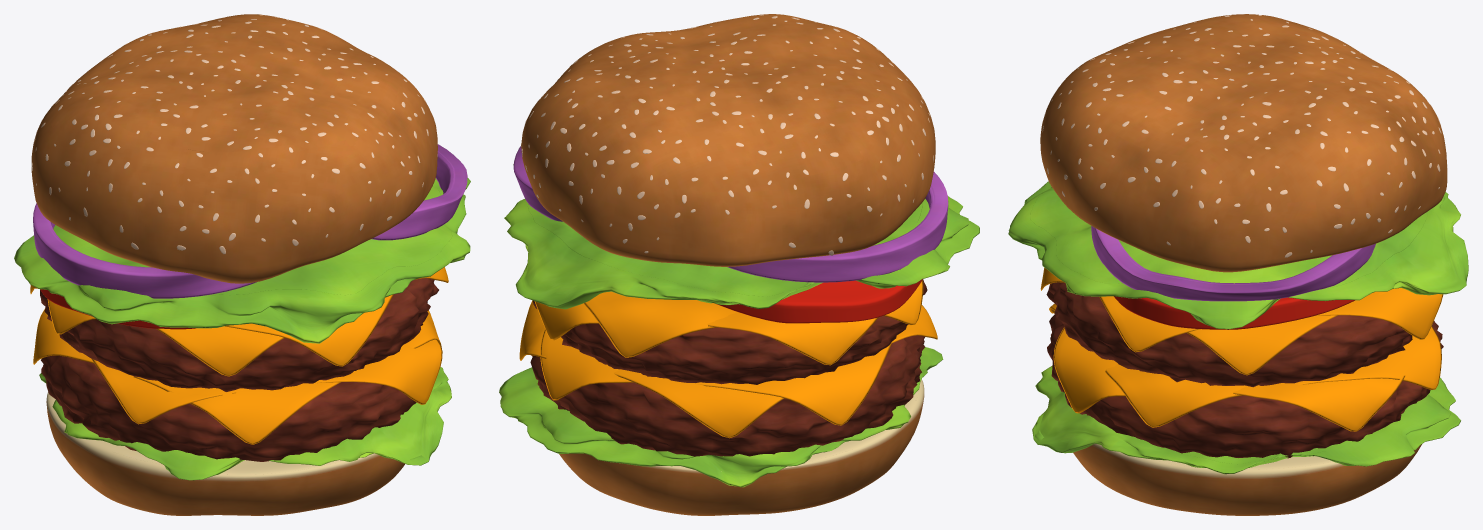
File: burger.glb
The picture shows the model from 3 angles, left to right: view 1: azimuth 30°, elevation 25°; view 2: azimuth 150°, elevation 25°; view 3: azimuth 270°, elevation 25°; orthographic projection.
Parts seen in each view (by area): view 1: topbun, lettuce, bottombun, patty, patty2, cheese, lettuce001, cheese2, onion2, onion, tomato001; view 2: topbun, lettuce, patty, bottombun, cheese, cheese2, patty2, lettuce001, onion2, tomato001, onion; view 3: topbun, lettuce, cheese, bottombun, patty2, patty, lettuce001, cheese2, onion, tomato.
Part boxes in pixels (bbox=[...]): topbun: bbox=[31, 14, 437, 283]; lettuce: bbox=[14, 178, 470, 343]; bottombun: bbox=[46, 392, 404, 515]; patty: bbox=[41, 355, 416, 461]; patty2: bbox=[40, 278, 438, 391]; cheese: bbox=[33, 309, 442, 444]; lettuce001: bbox=[39, 367, 451, 480]; cheese2: bbox=[30, 267, 448, 376]; onion2: bbox=[33, 203, 256, 298]; onion: bbox=[371, 144, 467, 240]; tomato001: bbox=[40, 289, 195, 329]; topbun: bbox=[521, 14, 935, 266]; lettuce: bbox=[504, 164, 979, 309]; patty: bbox=[530, 335, 924, 456]; bottombun: bbox=[559, 379, 924, 515]; cheese: bbox=[519, 300, 937, 438]; cheese2: bbox=[534, 280, 923, 365]; patty2: bbox=[532, 279, 927, 384]; lettuce001: bbox=[499, 347, 943, 487]; onion2: bbox=[727, 171, 948, 282]; tomato001: bbox=[716, 279, 922, 323]; onion: bbox=[513, 146, 562, 221]; topbun: bbox=[1040, 14, 1447, 272]; lettuce: bbox=[1008, 181, 1468, 329]; cheese: bbox=[1049, 303, 1441, 431]; bottombun: bbox=[1073, 443, 1421, 515]; patty2: bbox=[1046, 282, 1412, 387]; patty: bbox=[1047, 314, 1443, 458]; lettuce001: bbox=[1032, 366, 1460, 474]; cheese2: bbox=[1040, 267, 1443, 375]; onion: bbox=[1091, 226, 1375, 301]; tomato: bbox=[1114, 296, 1354, 329].
Size of the model in its own units: 3.43 by 2.91 by 3.18.
Materials: 8 (5 with a texture image).
